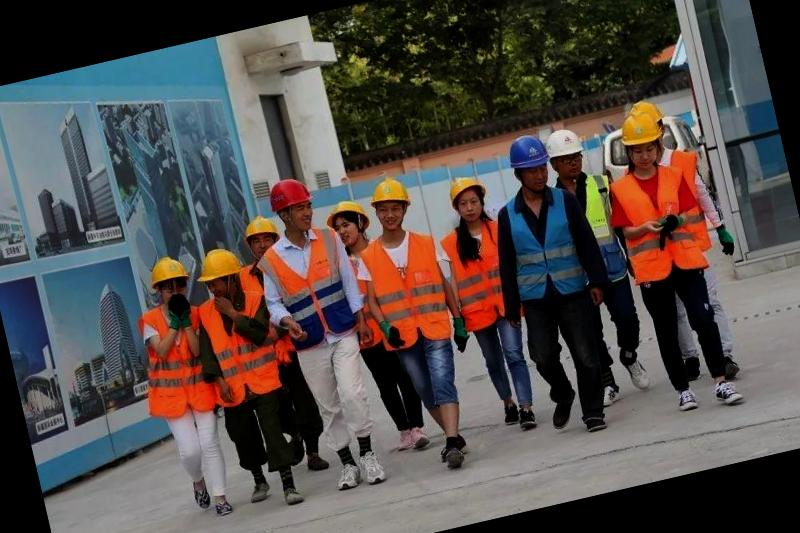helmet: (500, 128, 556, 186), (262, 170, 319, 225), (614, 105, 668, 158), (362, 172, 415, 224), (143, 250, 196, 300), (541, 124, 588, 170), (236, 211, 283, 254)
person: (232, 166, 401, 502), (340, 167, 496, 481), (598, 103, 746, 419), (482, 128, 612, 429), (181, 234, 314, 518), (421, 164, 552, 440)
